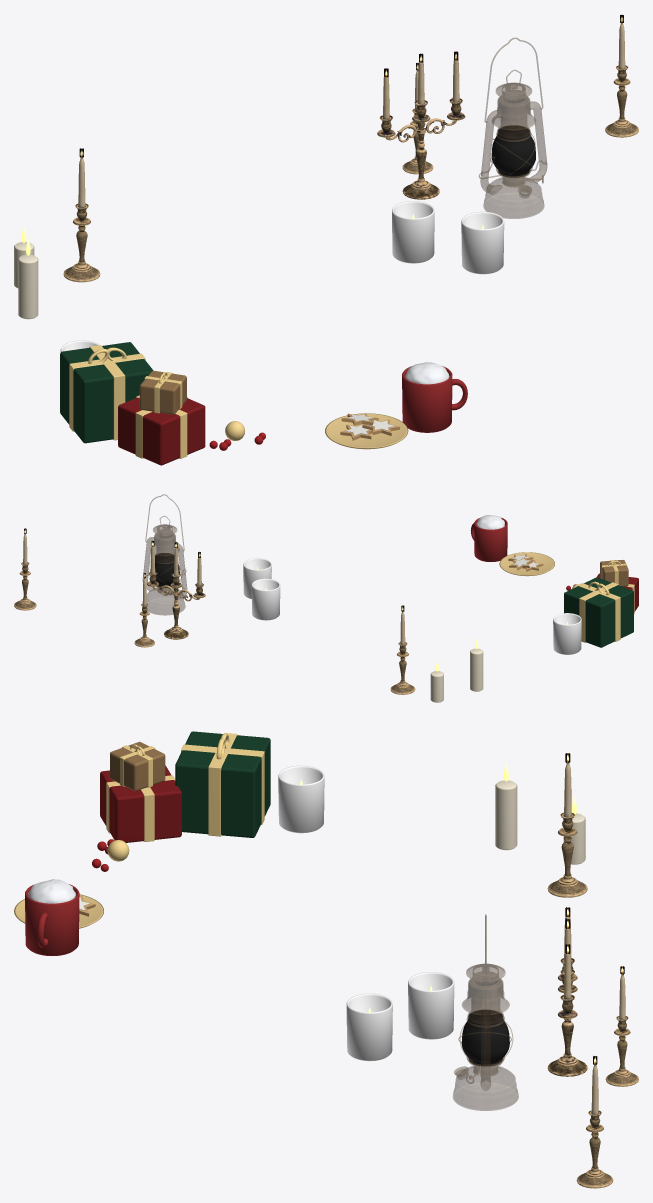
File: props.glb
3 renders of one model, top to bottom at view 1: azimuth 30°, elevation 25°; view 2: azimuth 150°, elevation 25°; view 3: azimuth 270°, elevation 25°, orthographic. The views are drawn at different scales.
Visible parts, largest first — view 1: Lantern_01, GiftBox.001, GiftBox, brass_candleholder_02, Mug, Votive.002, Votive.001, Lantern_01_glass, Plate, brass_candleholder_01.002, GiftBox.002, Candle (+4 smaller); view 2: GiftBox.001, Lantern_01, brass_candleholder_02, Mug, Votive.001, Votive, Plate, Votive.002, brass_candleholder_01.002, Lantern_01_glass, Candle, brass_candleholder_01.001 (+6 smaller); view 3: GiftBox.001, Lantern_01, GiftBox, Votive, Votive.002, Votive.001, Mug, Lantern_01_glass, brass_candleholder_02, GiftBox.002, brass_candleholder_01.002, Candle (+7 smaller).
Boxes of the visible parts, x1,y1,x2,y2 form: Lantern_01: [479, 38, 547, 218]; GiftBox.001: [60, 342, 153, 443]; GiftBox: [118, 397, 205, 465]; brass_candleholder_02: [377, 51, 465, 199]; Mug: [402, 366, 452, 432]; Votive.002: [461, 211, 504, 274]; Votive.001: [392, 201, 434, 263]; Lantern_01_glass: [491, 125, 535, 177]; Plate: [325, 413, 408, 449]; brass_candleholder_01.002: [63, 148, 100, 282]; GiftBox.002: [139, 370, 186, 414]; Candle: [18, 254, 38, 319]; GiftBox.001: [564, 577, 633, 647]; Lantern_01: [142, 494, 187, 615]; brass_candleholder_02: [147, 541, 205, 639]; Mug: [474, 517, 507, 561]; Votive.001: [251, 578, 280, 620]; Votive: [553, 613, 581, 654]; Plate: [499, 552, 554, 576]; Votive.002: [243, 558, 271, 599]; brass_candleholder_01.002: [390, 605, 415, 694]; Lantern_01_glass: [150, 553, 179, 587]; Candle: [470, 648, 483, 691]; brass_candleholder_01.001: [14, 528, 36, 610]; GiftBox.001: [175, 731, 270, 837]; Lantern_01: [453, 914, 518, 1110]; GiftBox: [100, 765, 181, 842]; Votive: [278, 765, 324, 833]; Votive.002: [346, 993, 392, 1061]; Votive.001: [408, 972, 454, 1039]; Mug: [25, 884, 79, 955]; Lantern_01_glass: [461, 1010, 509, 1065]; brass_candleholder_02: [547, 907, 587, 1076]; GiftBox.002: [110, 741, 165, 791]; brass_candleholder_01.002: [547, 753, 587, 897]; Candle: [495, 780, 517, 850].
Bounding box in the file's own units: 1.35 × 0.2949 × 0.9154.
19 materials, 6 textured.
